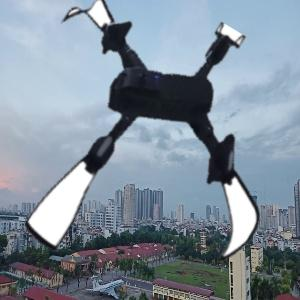drone: (4, 1, 291, 288)
